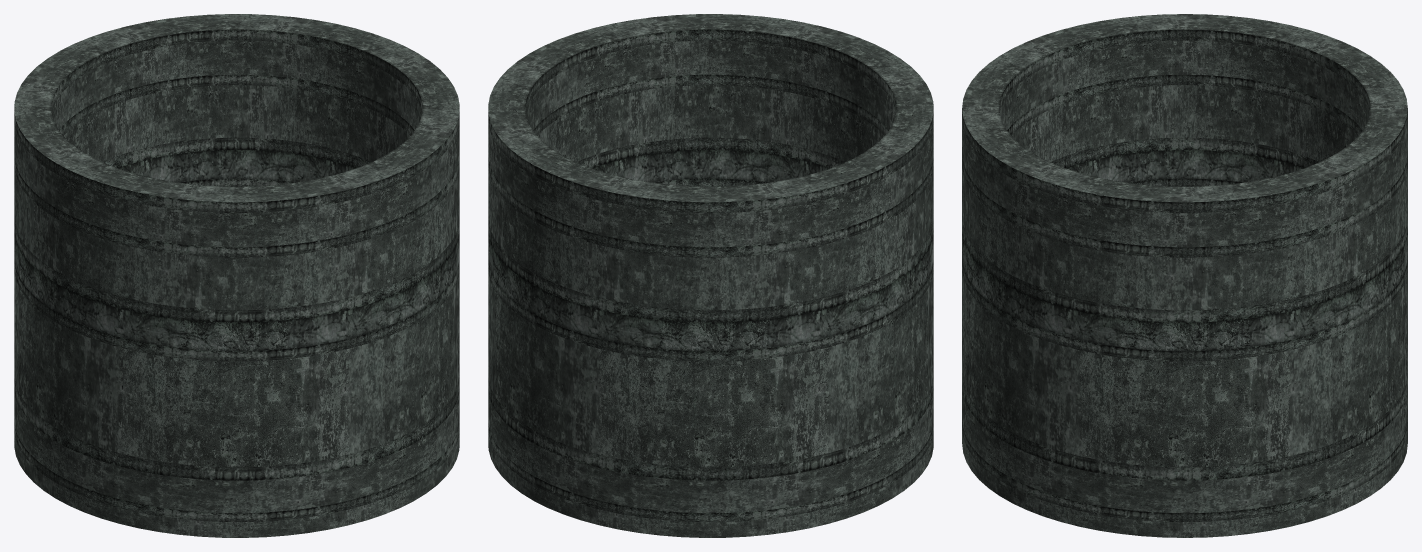
The model's file is mg_9_wall_0.fbx.
3 views of the same model, side by side, from view 1: azimuth 30°, elevation 25°; view 2: azimuth 150°, elevation 25°; view 3: azimuth 270°, elevation 25° (orthographic).
Visible parts, largest first — view 1: mg_9_wall_0; view 2: mg_9_wall_0; view 3: mg_9_wall_0.
Part boxes in pixels (x1,y1,x2,y2): mg_9_wall_0: [14, 14, 459, 537]; mg_9_wall_0: [488, 14, 933, 537]; mg_9_wall_0: [962, 14, 1407, 537].
Size of the model in its own units: 1203 by 999 by 1203.
